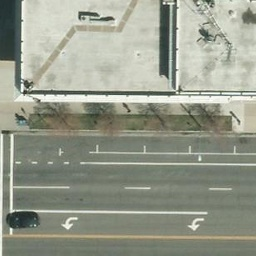car: (7, 208, 39, 227)
